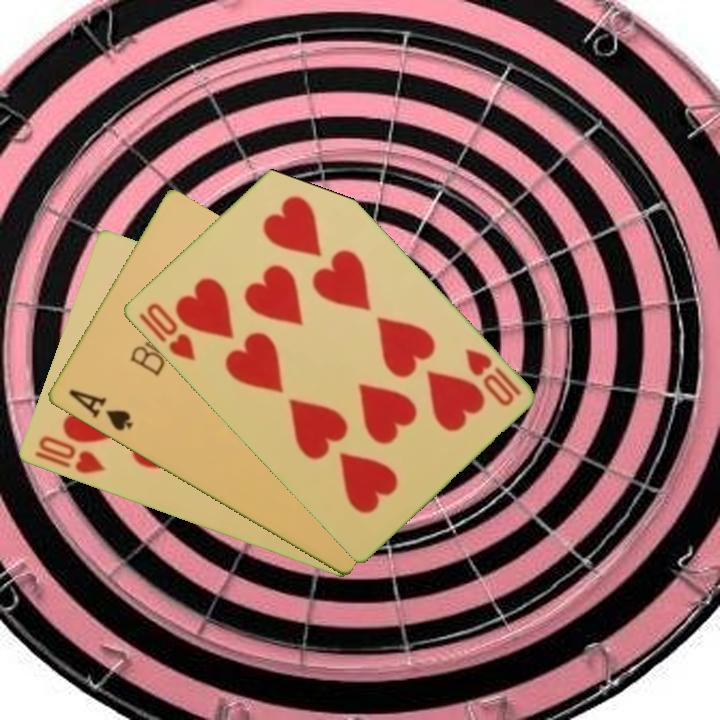10h: (460, 345, 524, 409), (142, 299, 198, 364), (31, 432, 109, 477)
As: (64, 385, 136, 434)
